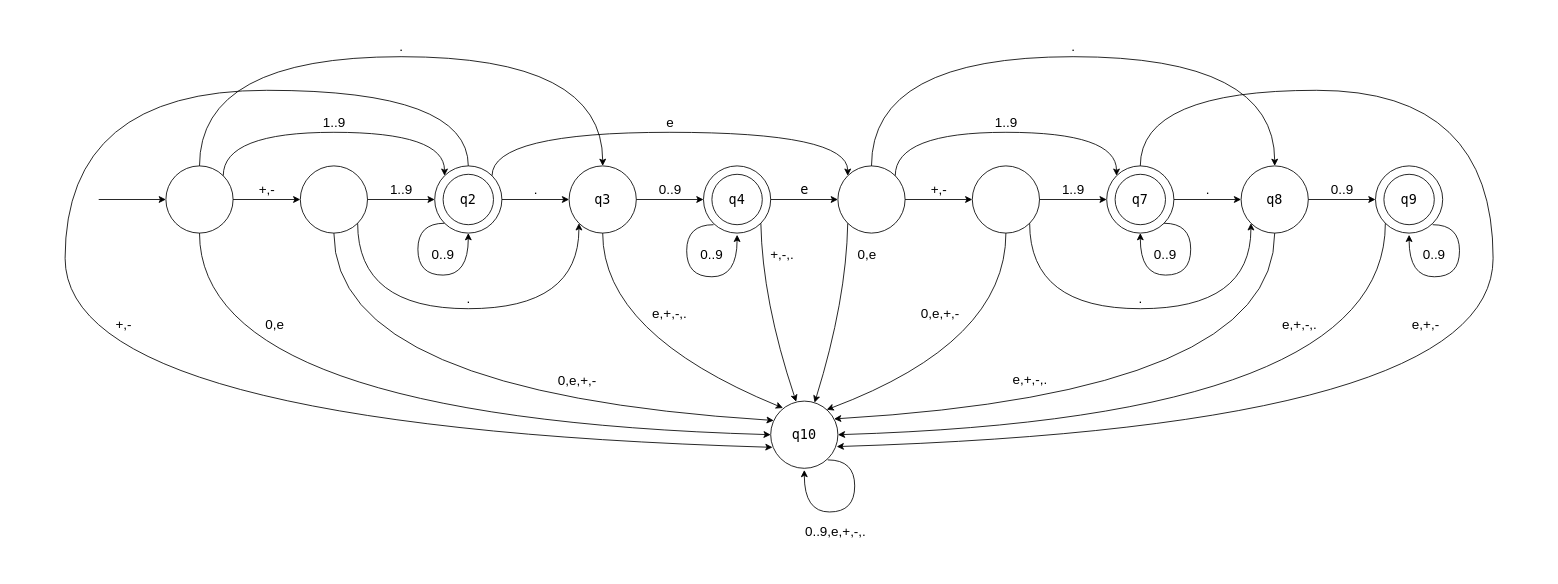
Some shapes in this 1558 by 584 pixel diagram are drawn without their labels. Here are the shapes that lost their labels. From the top down, the centre of each, then its label:
At point 199,199: "q0".
At point 333,199: "q1".
At point 871,199: "q5".
At point 1005,199: "q6".
